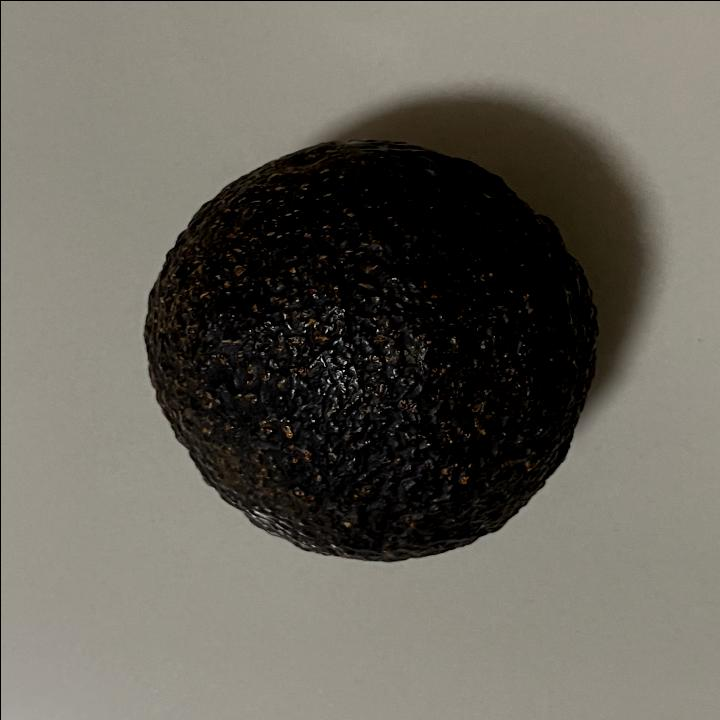Level2: (134, 134, 608, 572)
